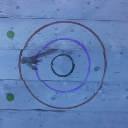Axe Tip: (26, 59, 38, 64)
